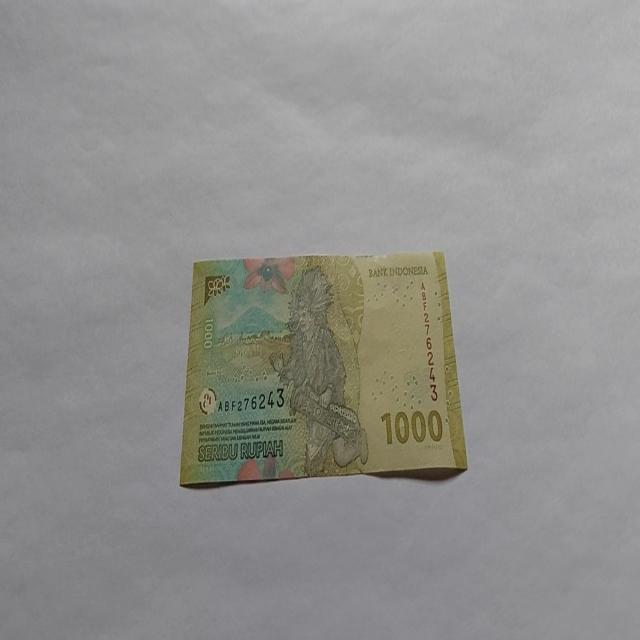seribu rupiah kertas: (178, 249, 468, 488)
